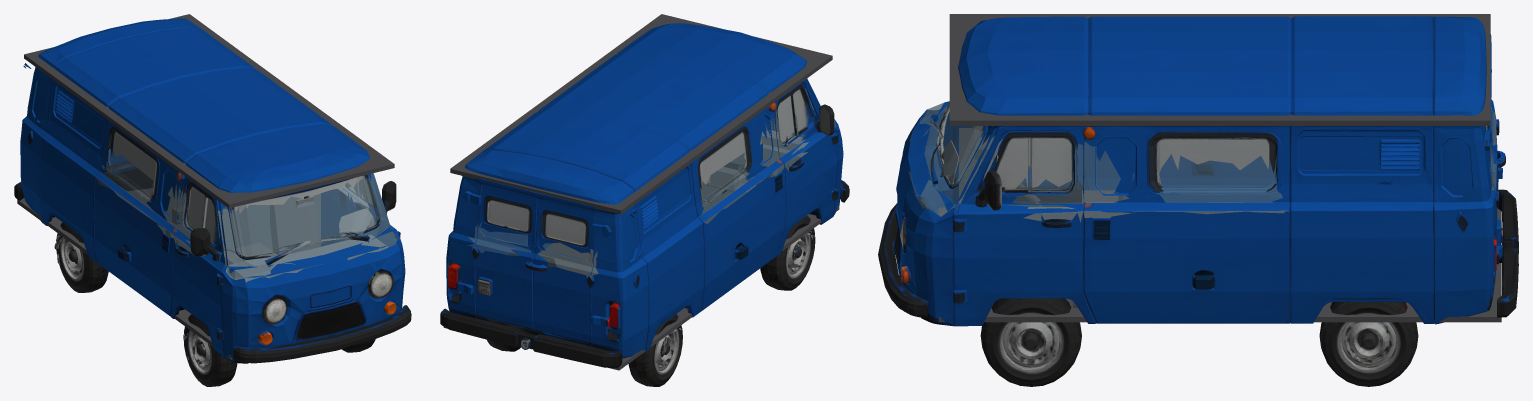
File: uaz-hunyuan.glb
3 renders of one model, left to right at view 1: azimuth 30°, elevation 25°; view 2: azimuth 150°, elevation 25°; view 3: azimuth 270°, elevation 25°, orthographic. The views are drawn at different scales.
Visible parts, largest first — view 1: Body, Interior, Glass, Wheel_FR, Wheel_RR; view 2: Body, Interior, Glass, Wheel_FR, Wheel_RR; view 3: Body, Interior, Glass, Wheel_FL, Wheel_RL.
Part boxes in pixels (x1,y1,x2,y2): Body: (14,18,411,363); Interior: (17,14,394,359); Glass: (96,140,397,282); Wheel_FR: (183,308,237,386); Wheel_RR: (49,210,108,292); Body: (440,23,849,367); Interior: (443,14,839,370); Glass: (467,88,835,279); Wheel_FR: (760,208,824,290); Wheel_RR: (628,306,686,386); Body: (878,16,1518,326); Interior: (938,14,1501,322); Glass: (909,102,1499,222); Wheel_FL: (979,292,1081,386); Wheel_RL: (1319,293,1418,386).
Size of the model in its own units: 2.17 by 2.2 by 4.44.
2 materials, 1 textured.
